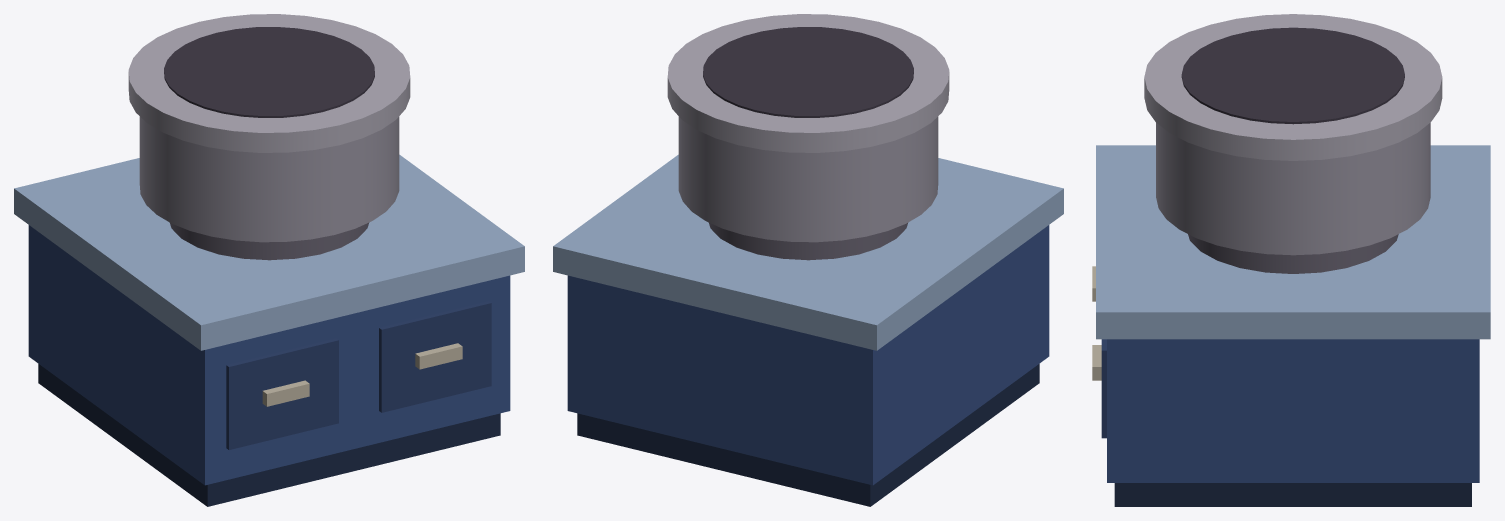
Rendered from k_frost_mortar.glb.
3 renders of one model, left to right at view 1: azimuth 30°, elevation 25°; view 2: azimuth 150°, elevation 25°; view 3: azimuth 270°, elevation 25°, orthographic. The views are drawn at different scales.
Parts seen in each view (by area): view 1: piece; view 2: piece; view 3: piece.
Boxes of the visible parts, x1,y1,x2,y2 form: piece: (14,14,524,506); piece: (553,14,1063,506); piece: (1092,14,1490,506).
Bounding box in the file's own units: 1.06 × 1.06 × 1.07.
